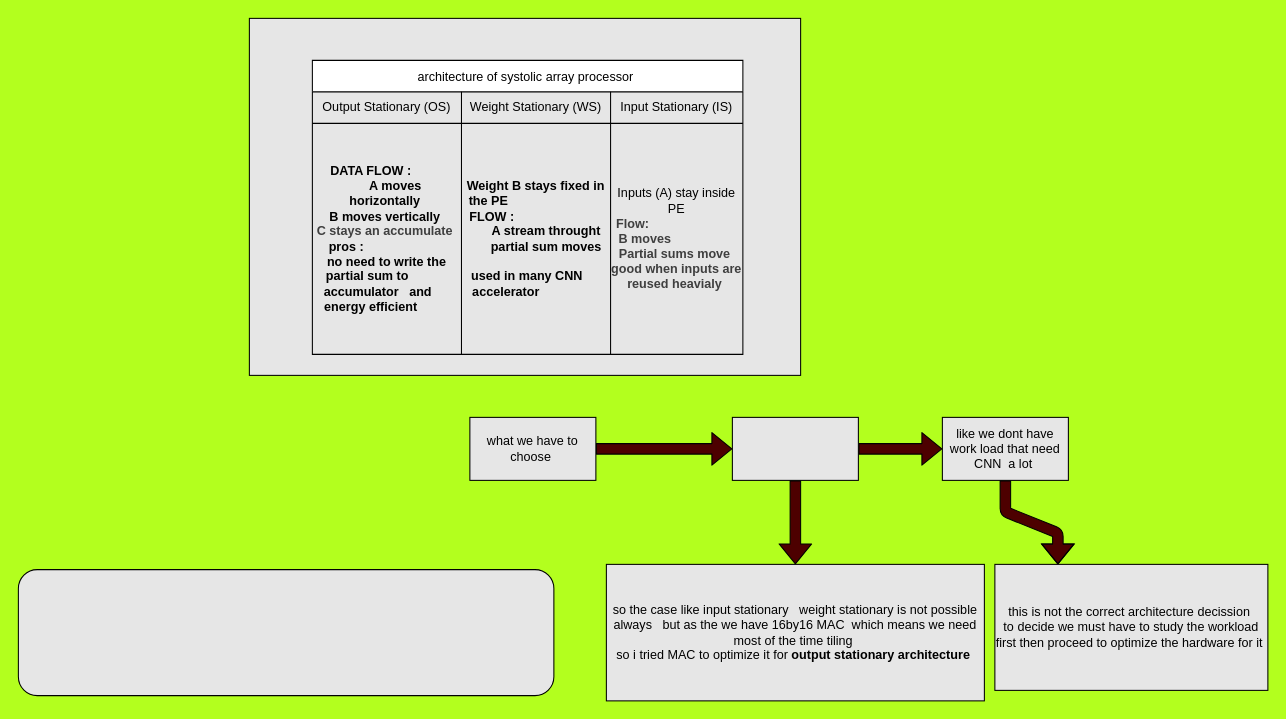
Some shapes in this 1286 by 719 pixel diagram are drawn without their labels. Each missing label, with the centre of its shape:
i assume the work load is most of the time variable: pixel 794 448
MAC IN NPU IS OUTPUT STATIONARY: pixel 285 632
